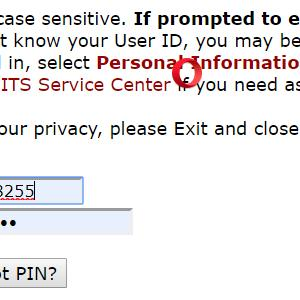opera: (172, 57, 202, 88)
